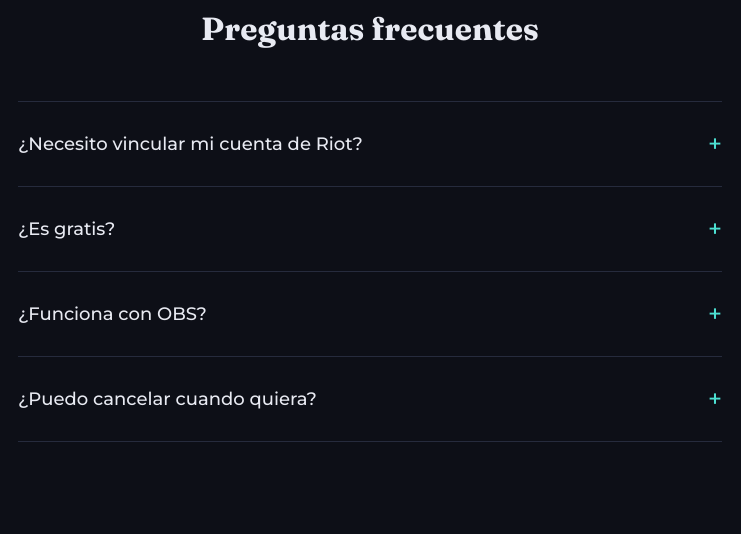
Faq › pulsar de nuevo la misma pregunta oculta la respuesta
The width and height of the screenshot is (741, 534).
Click the button "¿Funciona con OBS?" at {"x": 112, "y": 314}, box [18,272,722,356]
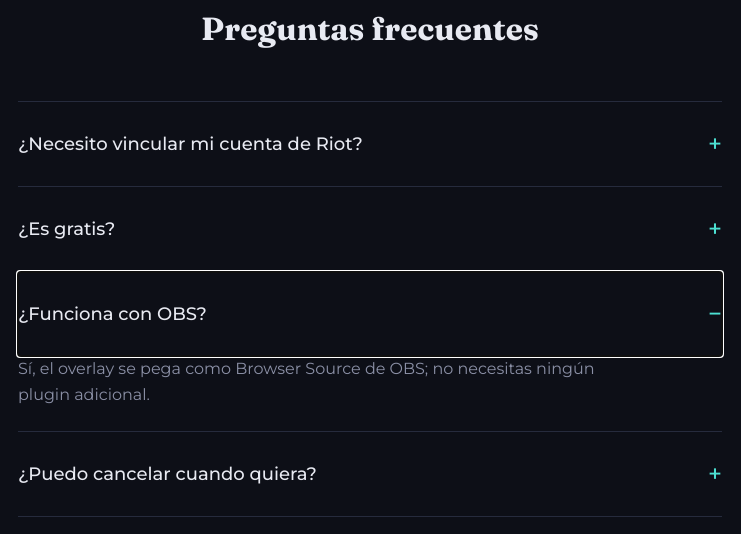
Click the button "¿Funciona con OBS?" at {"x": 112, "y": 314}, box [18,272,722,356]
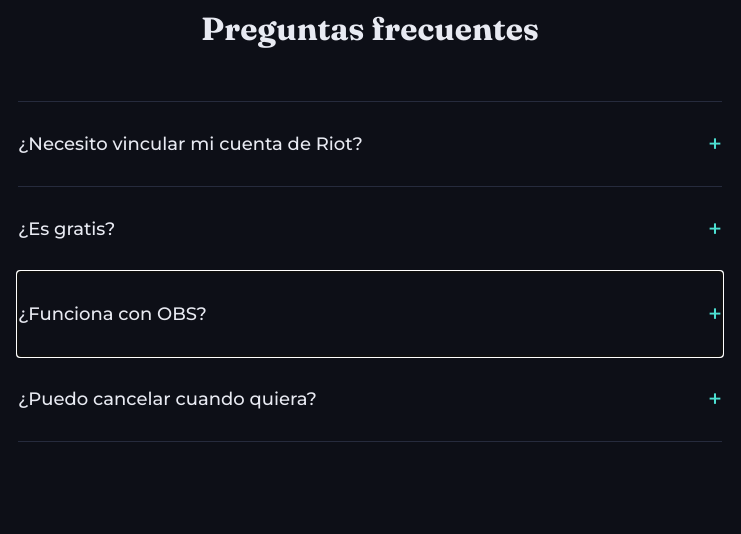
Expected: the text "Browser Source" is gone
